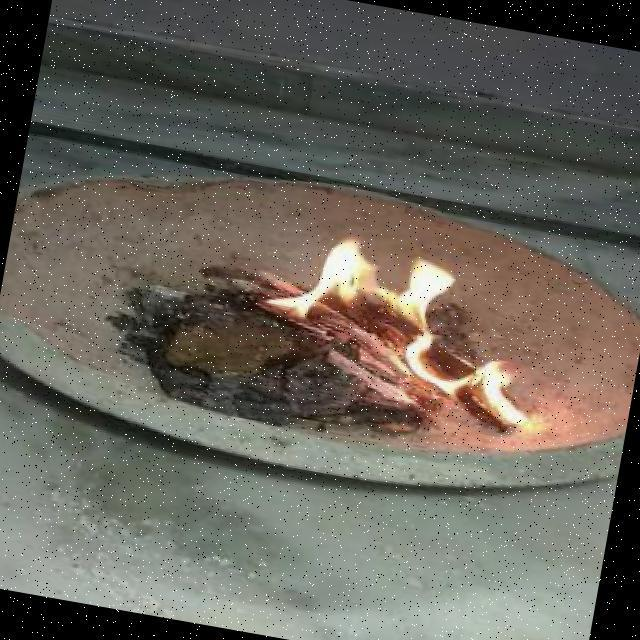Fire: (258, 229, 573, 435)
